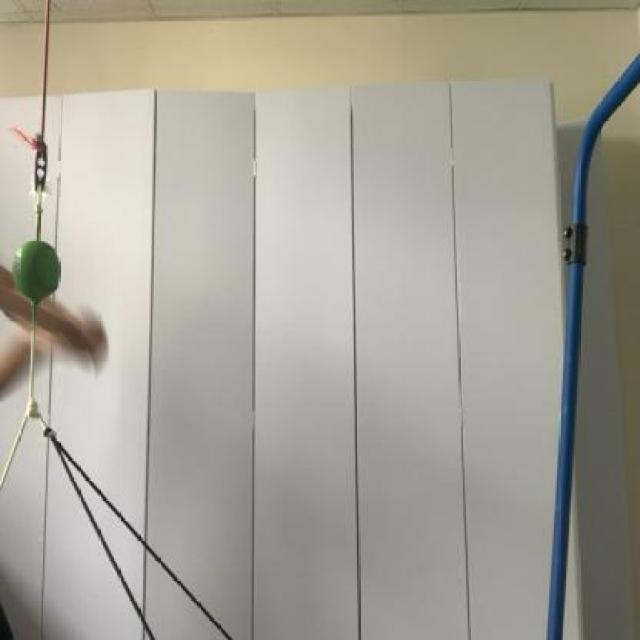baseball: (11, 229, 69, 311)
